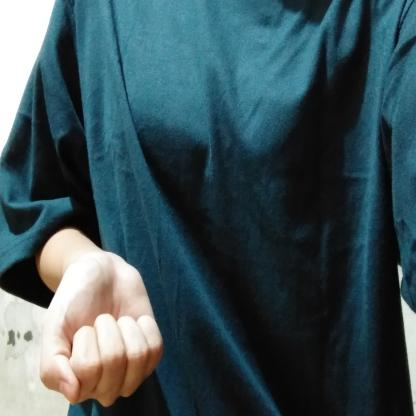where: (19, 218, 193, 412)
